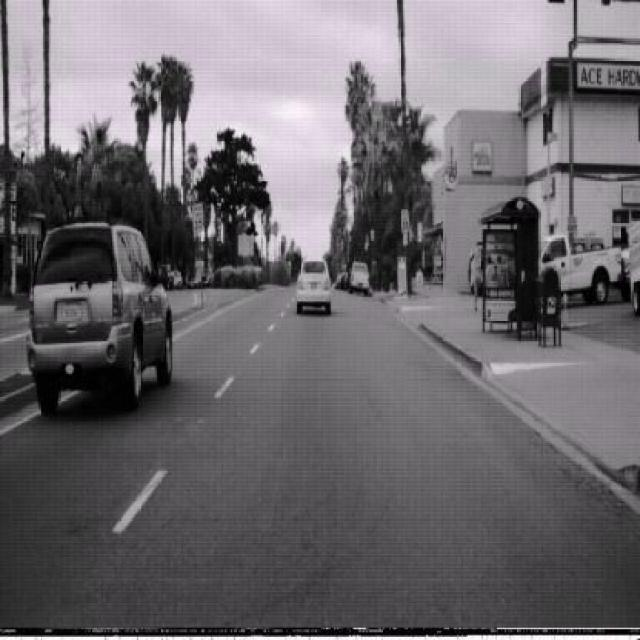speedLimit35: (192, 202, 205, 234), (400, 209, 409, 234)
